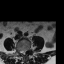CCS_stenosis: (23, 49, 25, 56)
LFS_severe_stenosis: (26, 47, 28, 52)
LLS_normal: (25, 48, 26, 55)
RFS_normal: (19, 48, 21, 54)
RLS_normal: (21, 49, 23, 55)
